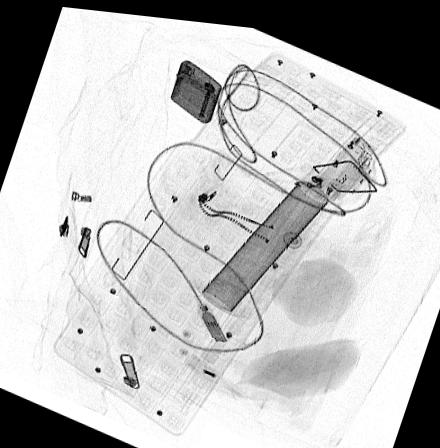Lighter: (169, 55, 222, 117)
